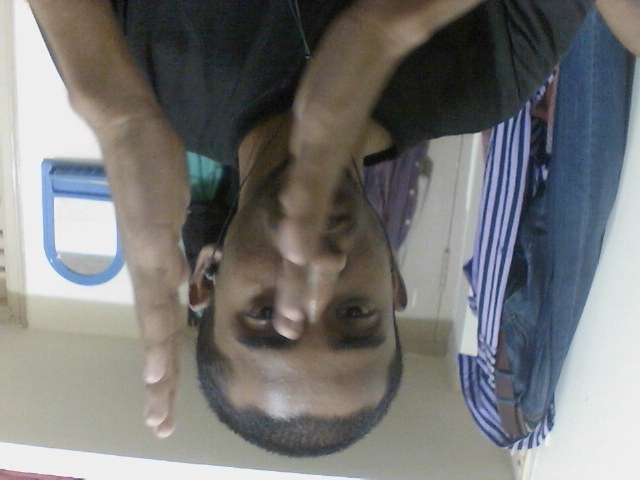hand: (271, 9, 380, 343), (97, 120, 192, 442)
